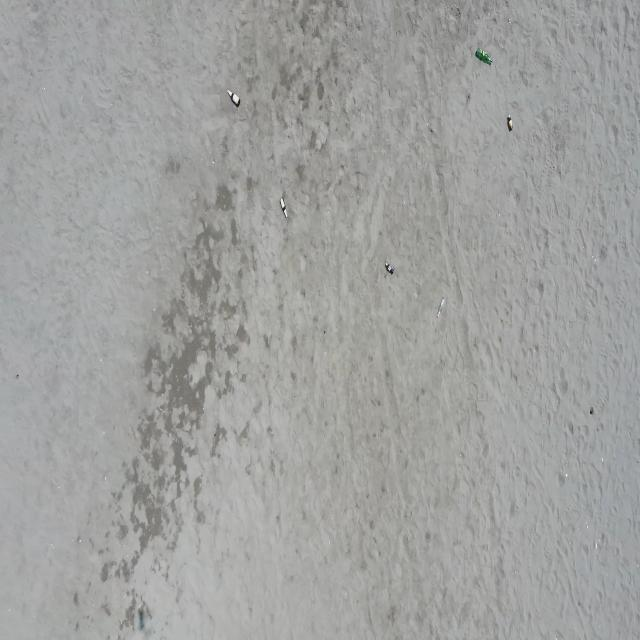glass: (476, 47, 493, 63), (227, 90, 240, 106), (437, 296, 446, 317), (280, 197, 288, 218), (385, 263, 394, 274), (507, 115, 513, 131)
